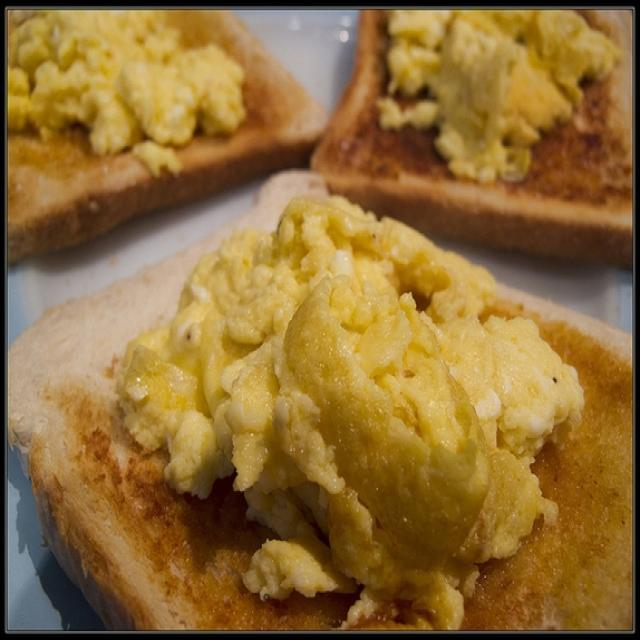鸡蛋料理: (8, 7, 633, 621)
